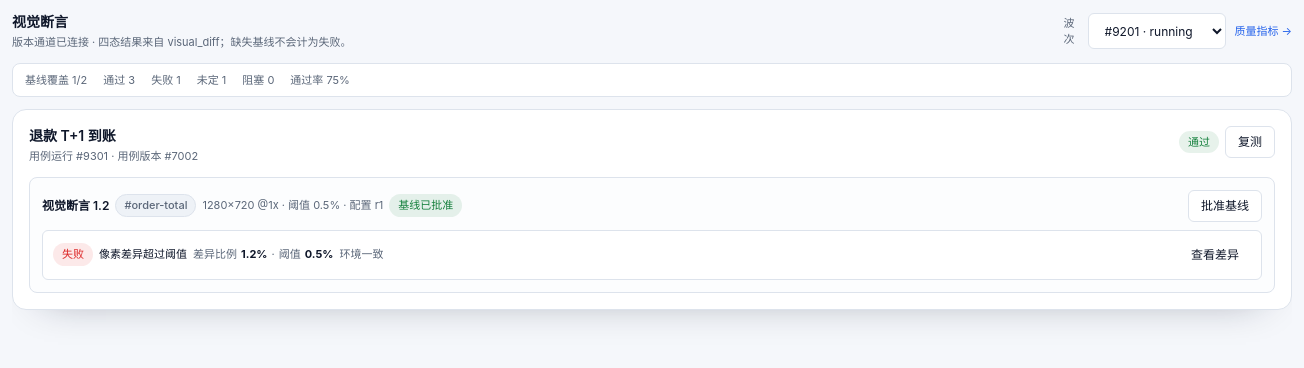
Test case: VisualView › creates a retest intent from a case-run row
The width and height of the screenshot is (1304, 368).
Expected: the heading "退款 T+1 到账" is shown, 29,127 -> 116,144
Click the button "复测": (1250, 142) 1225,126 -> 1275,158
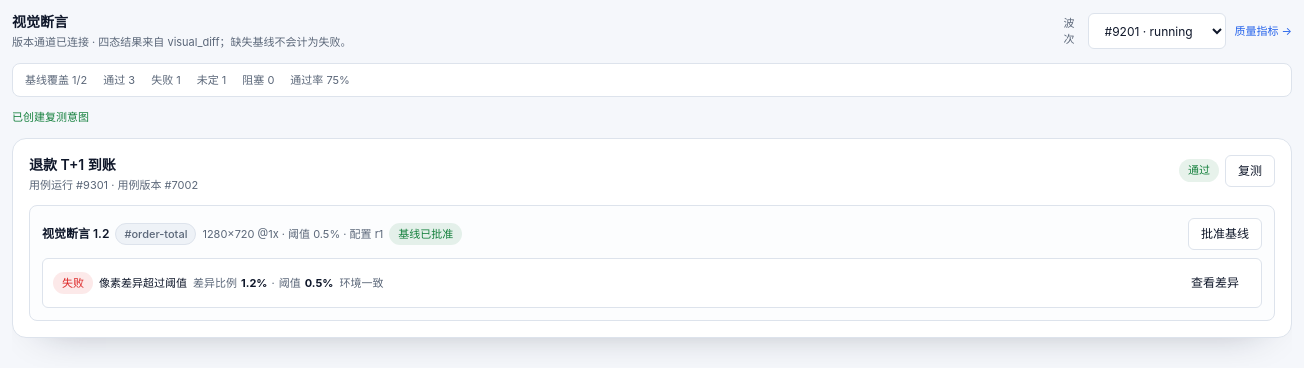
Expected: the message reads "已创建复测意图", 12,110 -> 89,124
